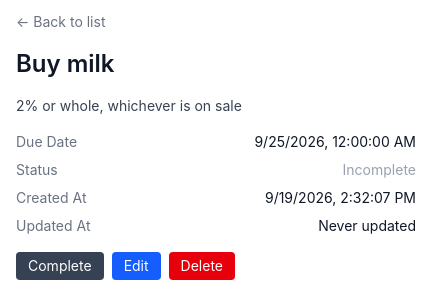
Scenario: TodoDetailRoute › toggles a completed todo back to incomplete
expect the heading "Buy milk" is shown: met, box [16,49,114,78]
Click the button "Complete".
click(60, 266)  # box [16,252,104,280]
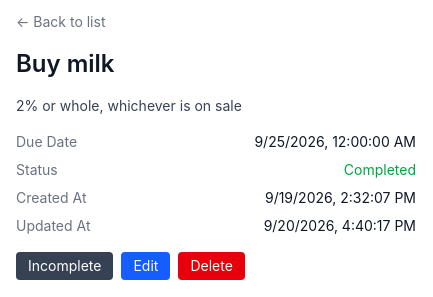
expect the button "Incomplete" is shown: met
Click the button "Incomplete".
click(65, 266)  # box [16,252,113,280]
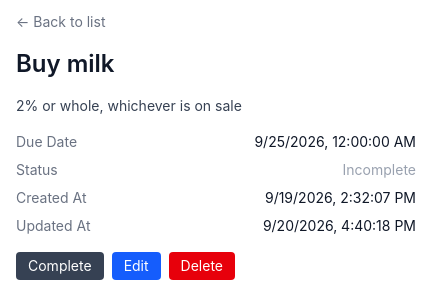
expect the button "Complete" is shown: met, box [16,252,104,280]
expect the text "Incomplete" is shown: met, box [343,160,416,180]
